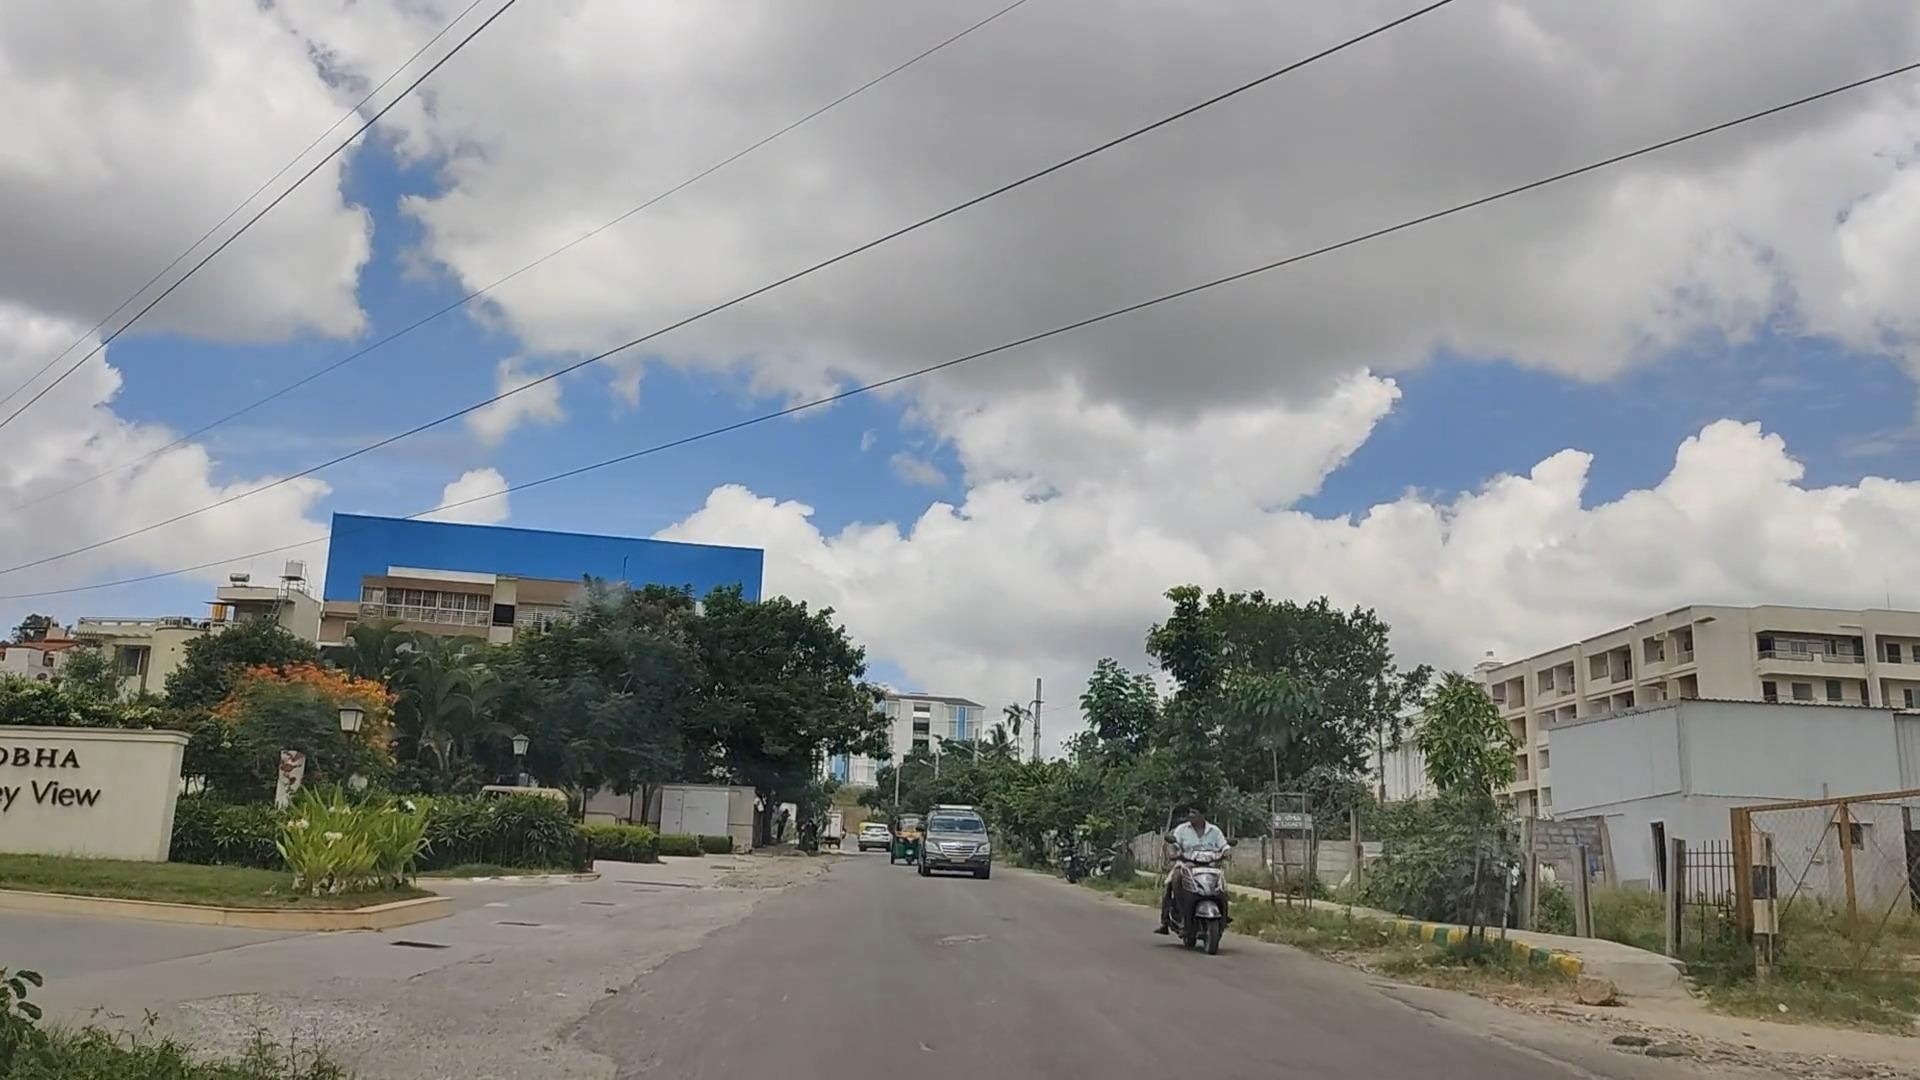RoadDamages: (177, 963, 419, 1065), (1357, 989, 1598, 1080), (607, 887, 799, 998), (514, 1010, 703, 1080)
